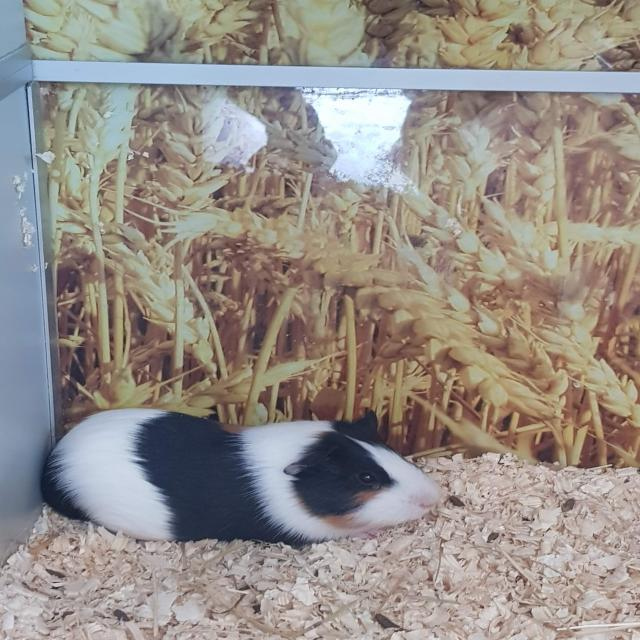guinea pig: (37, 407, 447, 551)
